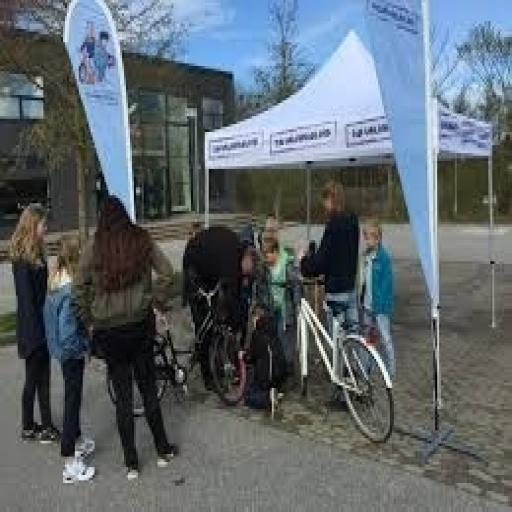cycling: (71, 182, 181, 486), (298, 177, 366, 406), (40, 232, 100, 488), (179, 219, 264, 396), (8, 198, 63, 449), (356, 211, 400, 391), (236, 298, 290, 420)
